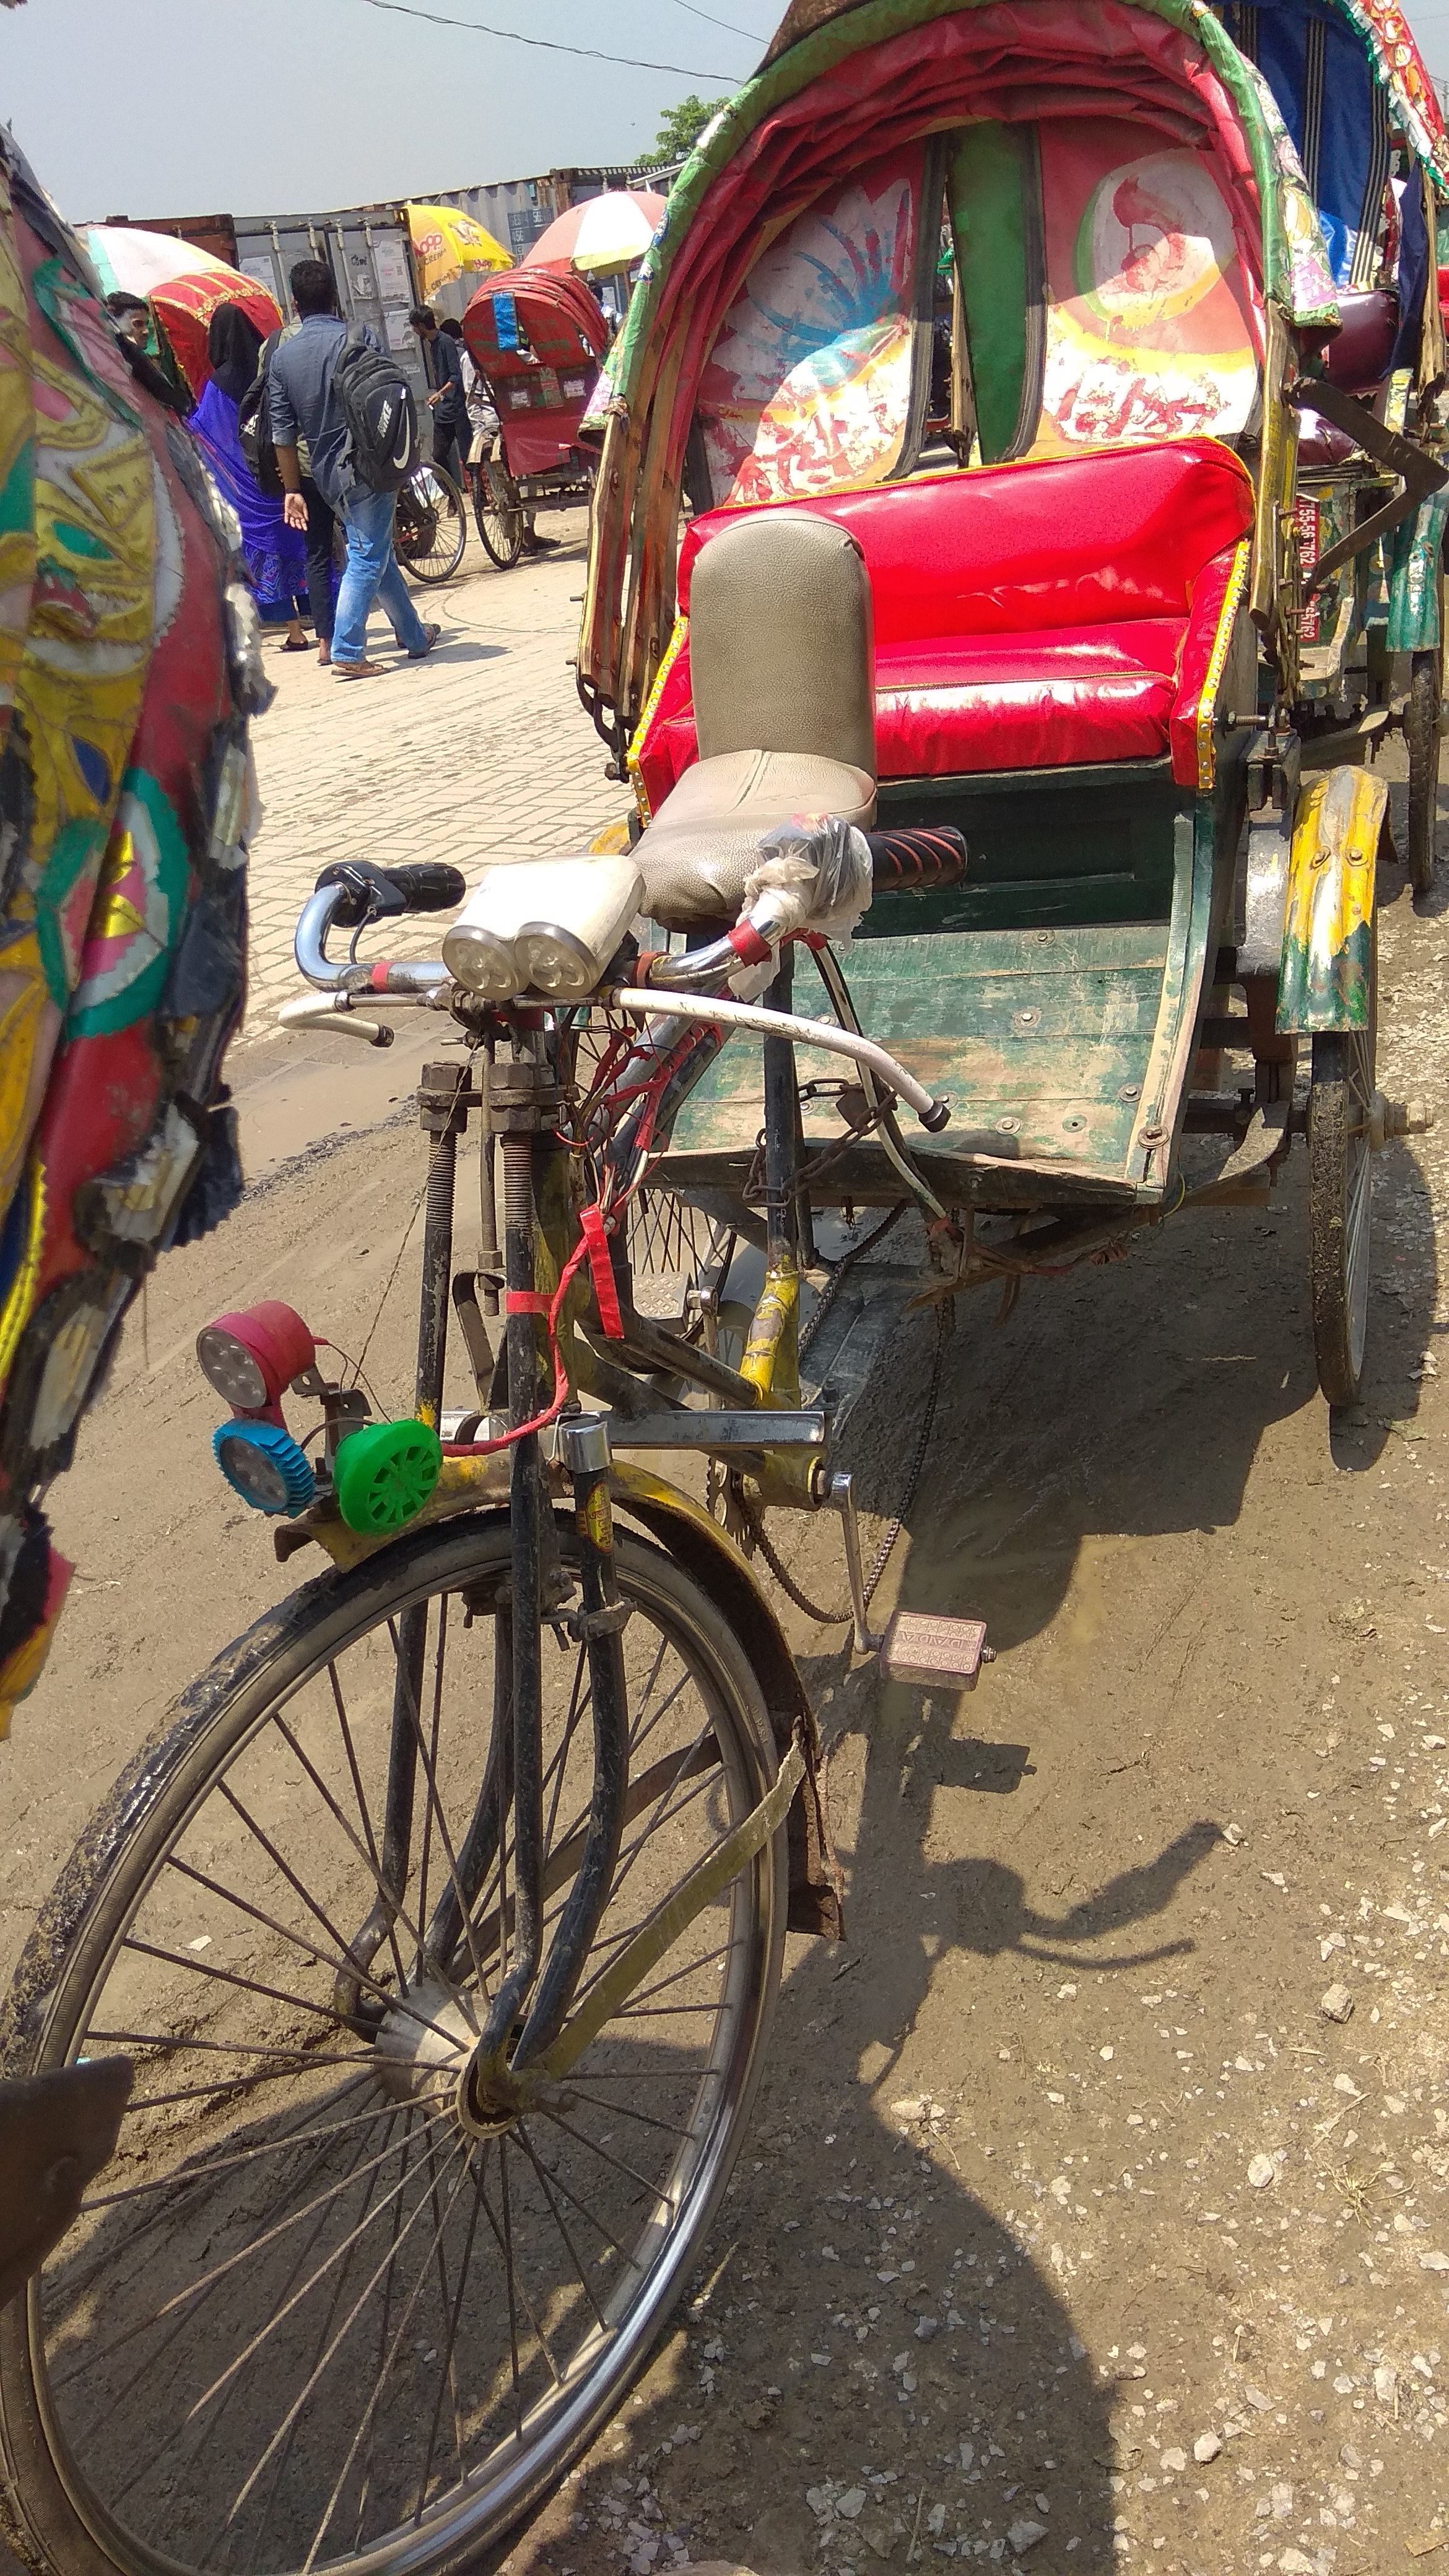Rickshaw: (223, 2, 1346, 2383), (0, 115, 223, 1741), (1210, 11, 1447, 952), (439, 221, 626, 566), (149, 209, 281, 458)
